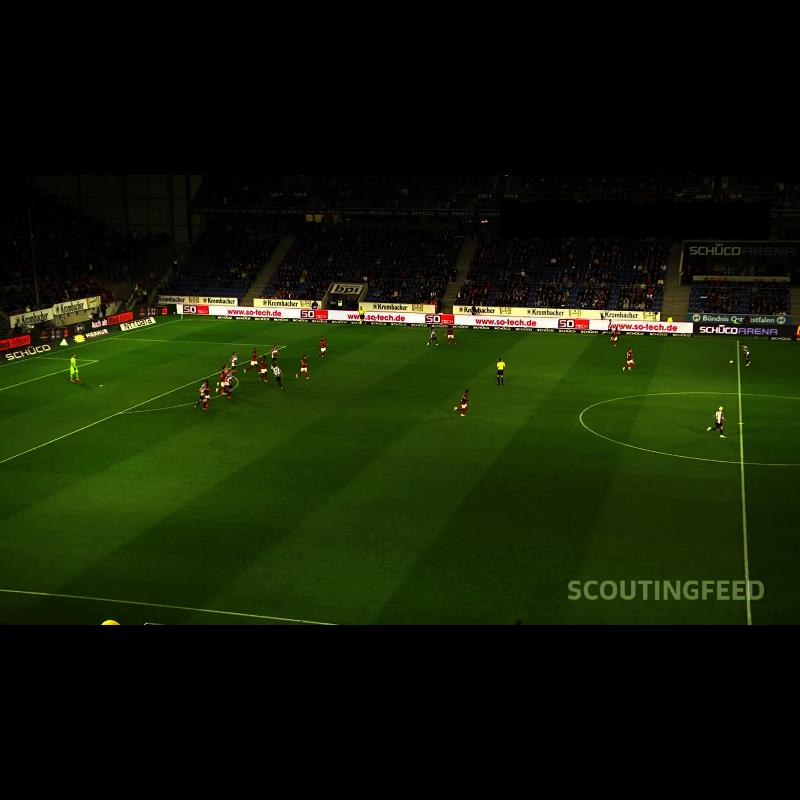cross_recipient_zone: (0, 338, 285, 463)
crossing_player_zone: (0, 473, 143, 569), (113, 319, 427, 351)
pitch: (0, 320, 800, 625)
